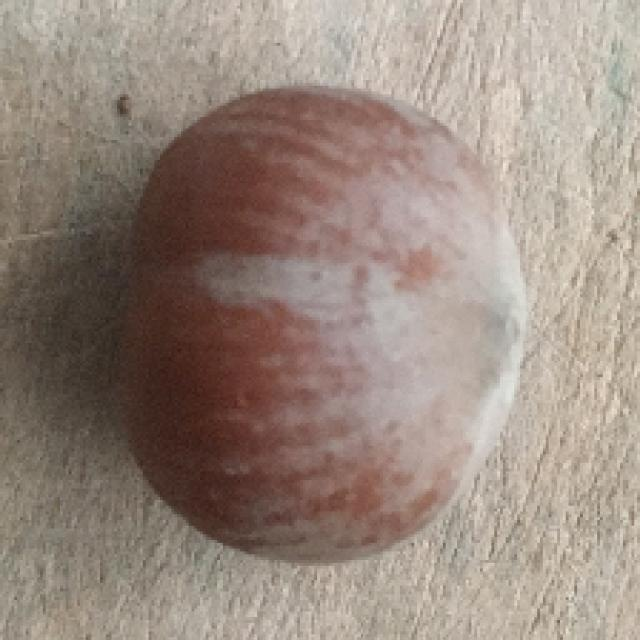qualityHazelnut: (86, 80, 535, 557)
